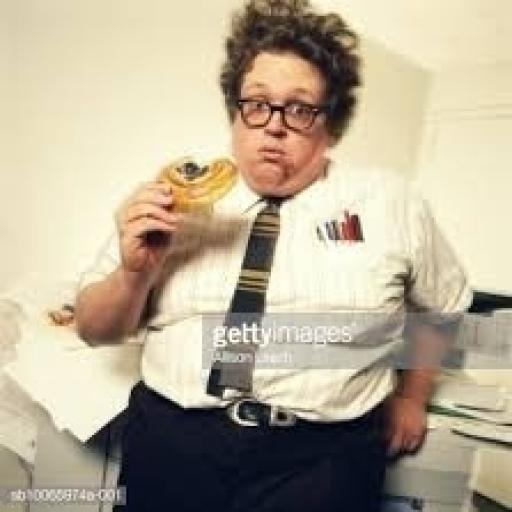eating: (69, 0, 475, 510)
